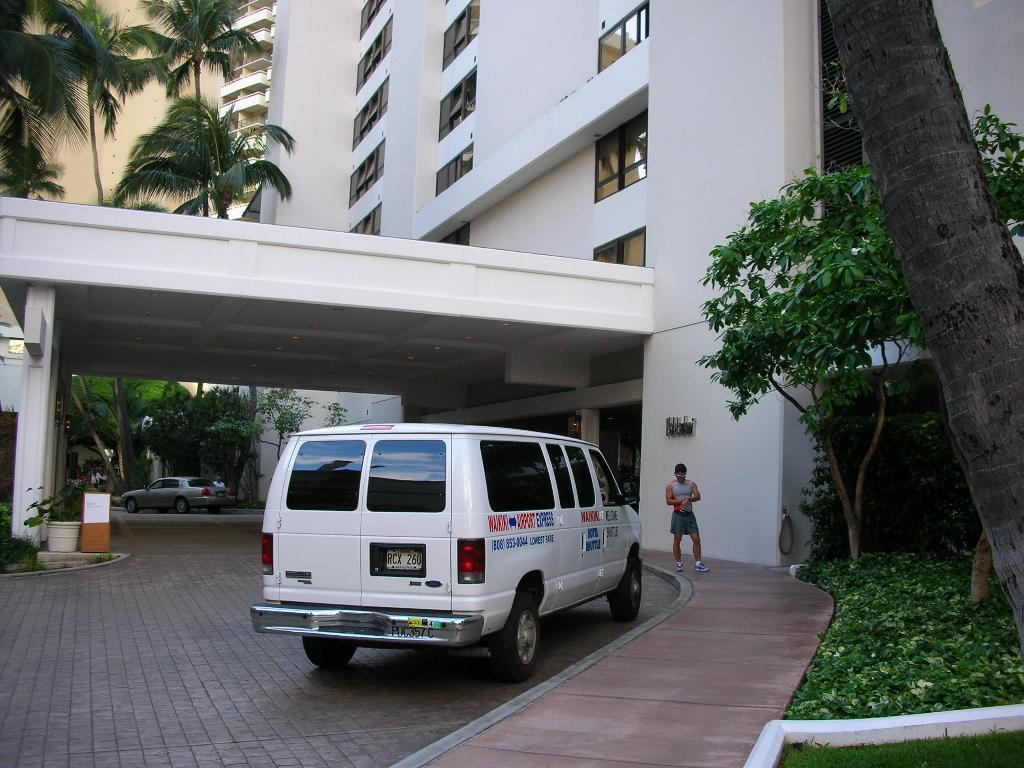vehicle: (250, 421, 642, 680), (122, 477, 237, 514)
